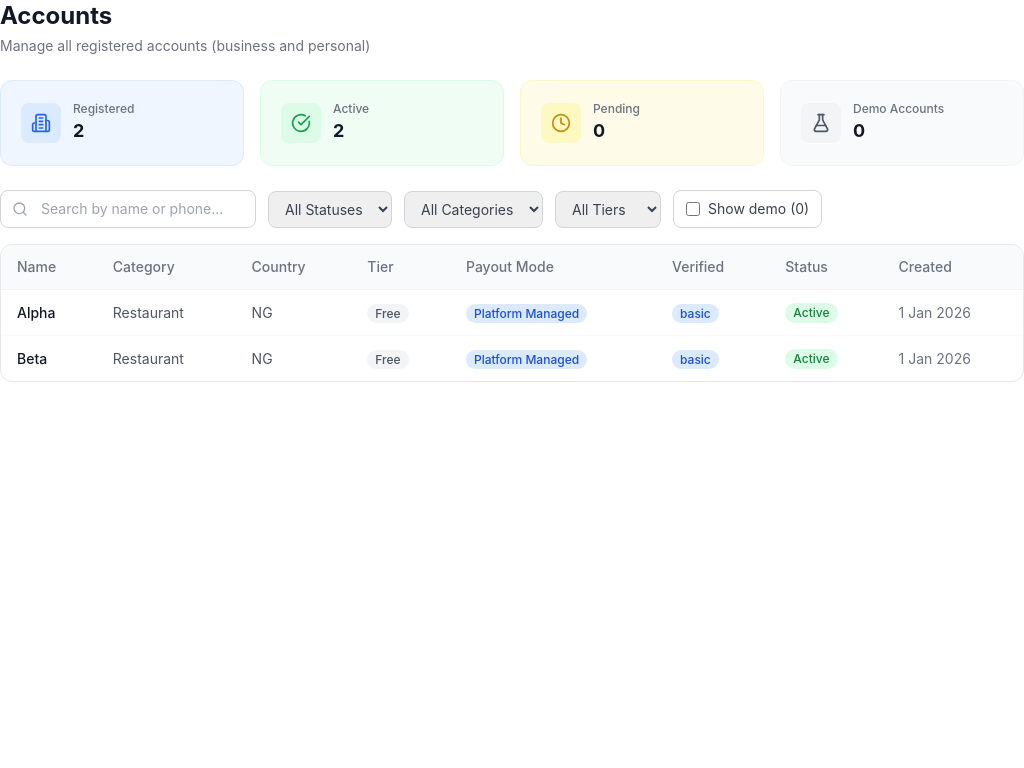
persisted admin save truth › disables profile edits for support
What coordinates should you click on to do the following:
click the text "Alpha"
I would click on:
 (36, 312)
Its box is [17, 304, 56, 320].
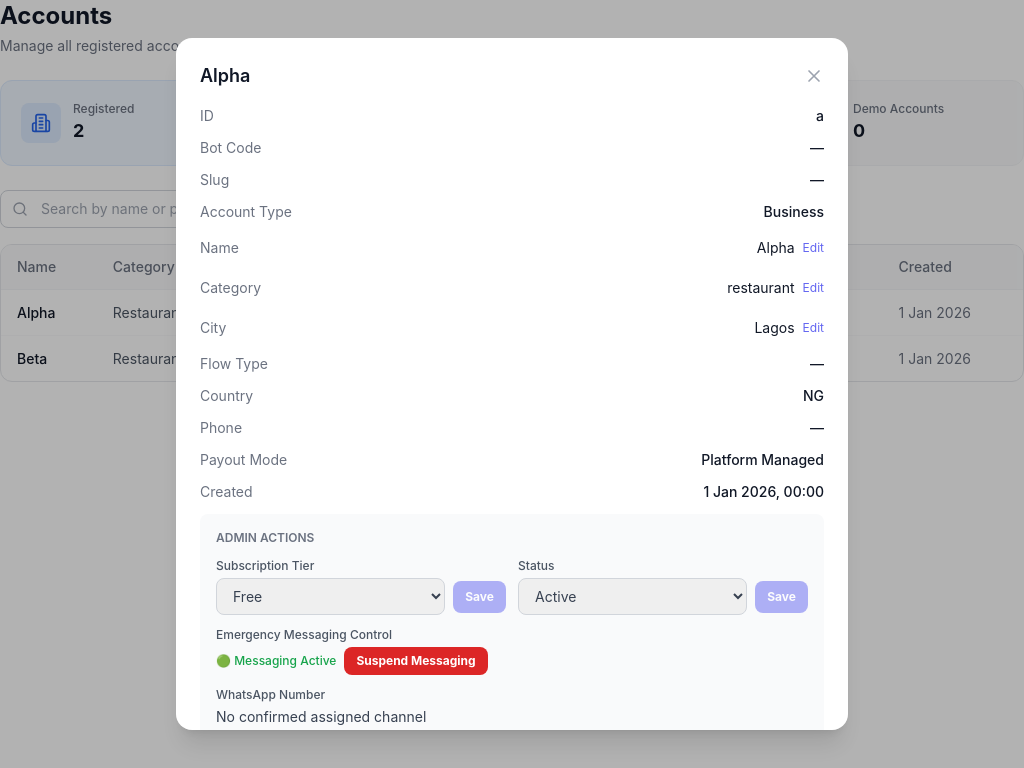
Expected: the button with aria-label "Edit name" is disabled, [803, 240, 824, 256]
